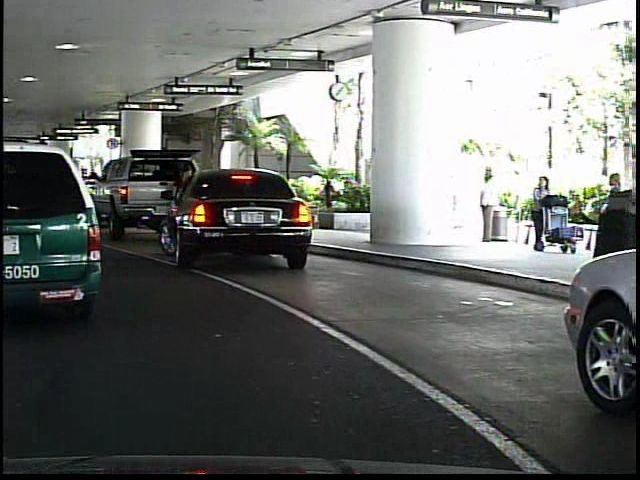person: (524, 172, 553, 258)
